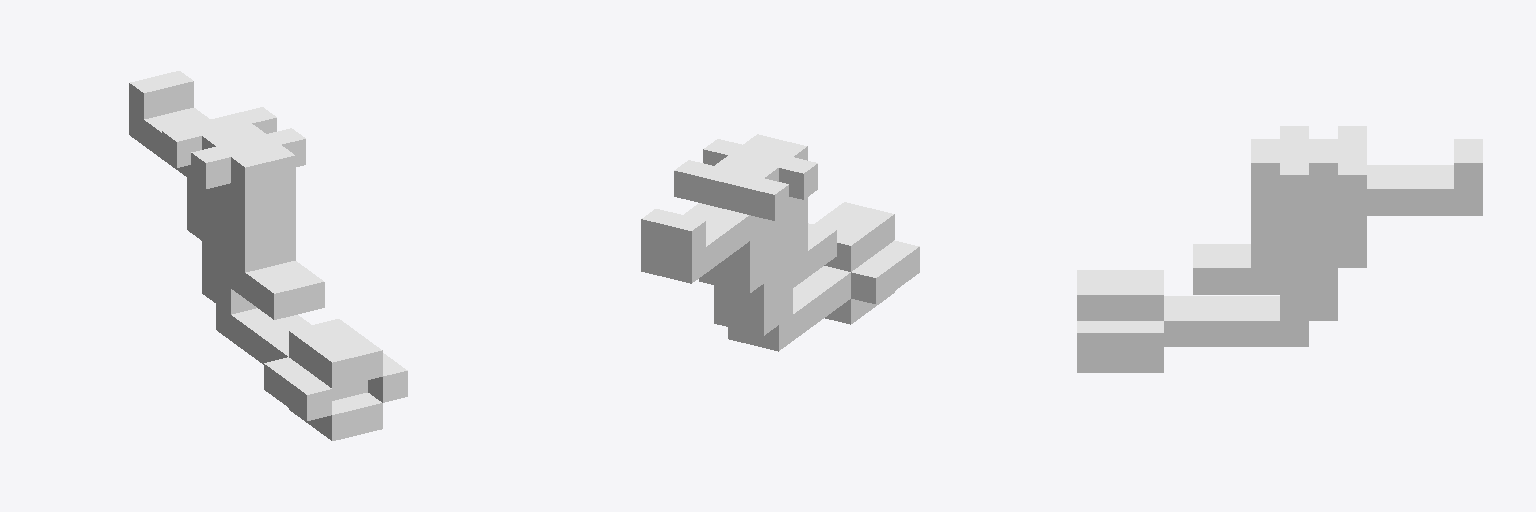
File: Extra-4-RedFighter_Canon.obj
3 renders of one model, left to right at view 1: azimuth 30°, elevation 25°; view 2: azimuth 150°, elevation 25°; view 3: azimuth 270°, elevation 25°, orthographic.
Visible parts, largest first — view 1: RedFighter_Canon; view 2: RedFighter_Canon; view 3: RedFighter_Canon.
Boxes of the visible parts, x1=… form: RedFighter_Canon: x1=129, y1=71, x2=407, y2=440; RedFighter_Canon: x1=641, y1=134, x2=919, y2=351; RedFighter_Canon: x1=1077, y1=126, x2=1482, y2=372.
Bounding box in the file's own units: 0.4 × 0.8 × 1.4.